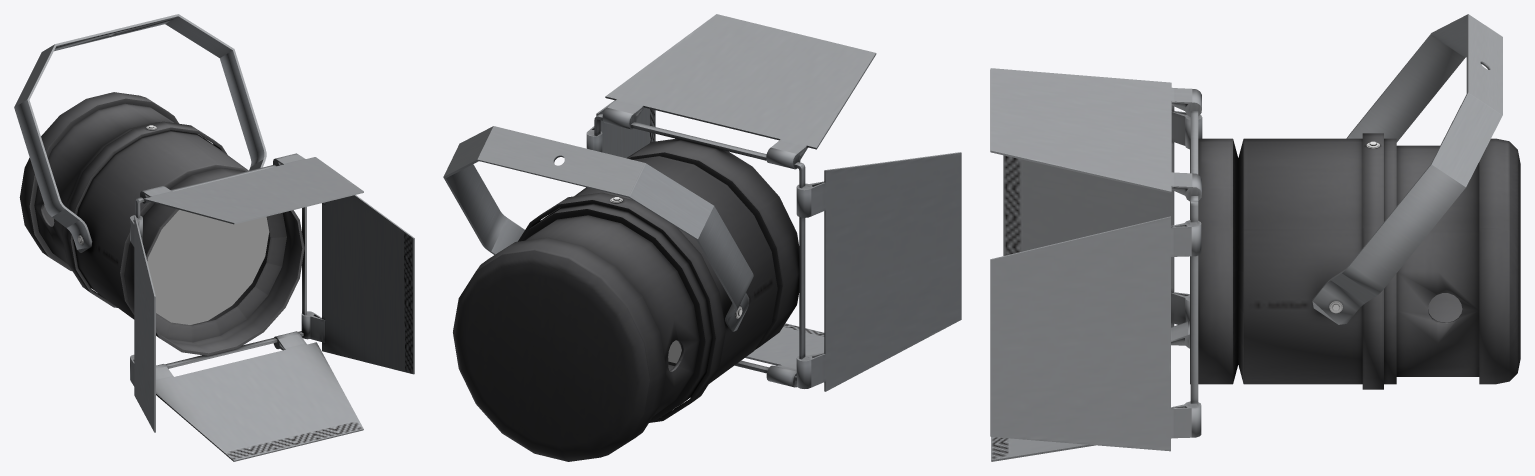
File: Reflector_halo_AdiXXioN_FBX.fbx
The picture shows the model from 3 angles, left to right: view 1: azimuth 30°, elevation 25°; view 2: azimuth 150°, elevation 25°; view 3: azimuth 270°, elevation 25°; orthographic projection. The views are drawn at different scales.
Parts seen in each view (by area): view 1: Reflector Body, Lens Door Down, Lens Door L, Lens Door Up, Handle, Lens Door R; view 2: Reflector Body, Lens Door R, Lens Door Up, Handle, Lens Door Down, Lens Door L; view 3: Reflector Body, Lens Door L, Handle, Lens Door Up, Lens Door R, Lens Door Down.
Boxes of the visible parts, <box> form: Reflector Body: <box>19,92,306,368</box>; Lens Door Down: <box>156,331,363,461</box>; Lens Door L: <box>301,195,414,374</box>; Lens Door Up: <box>140,153,363,224</box>; Handle: <box>14,14,266,252</box>; Lens Door R: <box>130,215,155,432</box>; Reflector Body: <box>453,114,805,461</box>; Lens Door R: <box>796,152,961,391</box>; Lens Door Up: <box>602,14,876,169</box>; Handle: <box>443,126,753,331</box>; Lens Door Down: <box>745,323,824,387</box>; Lens Door L: <box>586,100,655,157</box>; Reflector Body: <box>1190,111,1520,403</box>; Lens Door L: <box>990,216,1201,451</box>; Handle: <box>1312,14,1502,324</box>; Lens Door Up: <box>990,68,1201,201</box>; Lens Door R: <box>1003,105,1202,327</box>; Lens Door Down: <box>991,321,1189,461</box>.
Size of the model in its own units: 27.53 by 29.13 by 38.
